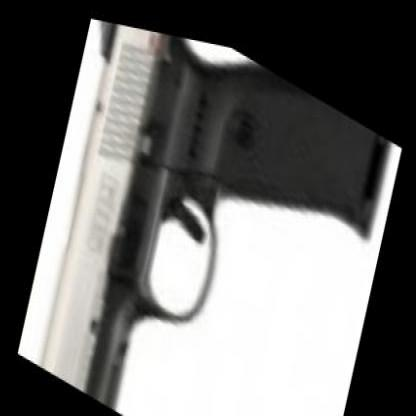pistol: (22, 3, 391, 414)
